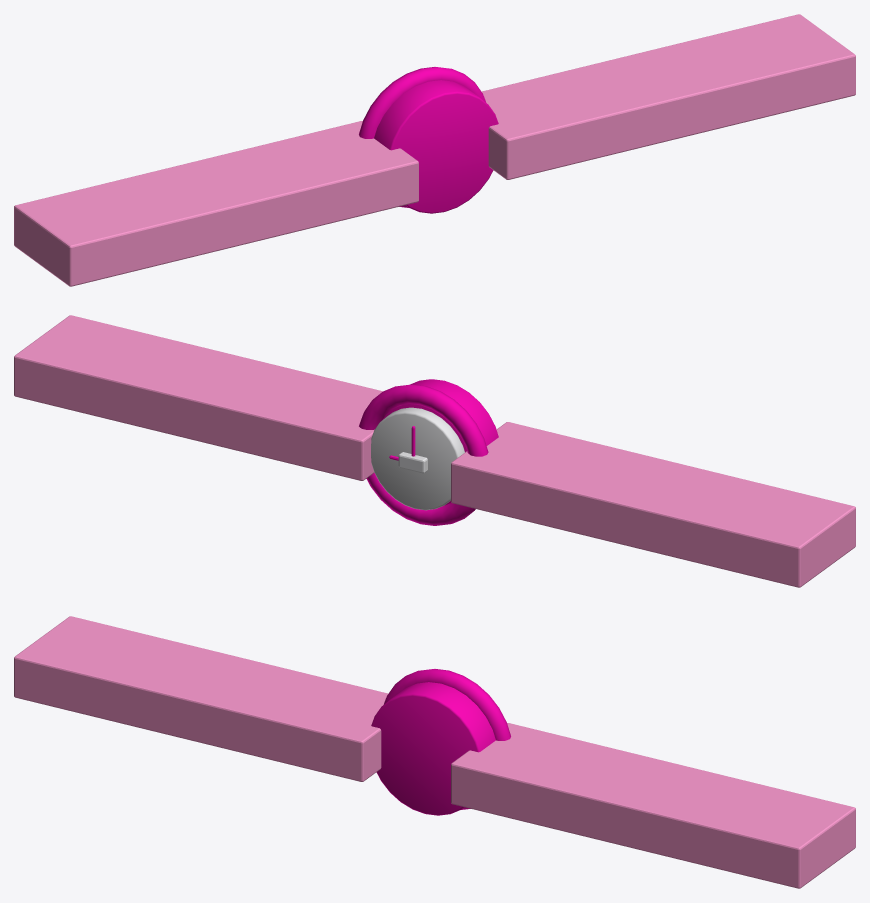
The model's file is VM-CAB-SH40787913.glb.
3 renders of one model, top to bottom at view 1: azimuth 30°, elevation 25°; view 2: azimuth 150°, elevation 25°; view 3: azimuth 330°, elevation 25°, orthographic.
Parts seen in each view (by area): view 1: Reloj de Estilo Motociclista; view 2: Reloj de Estilo Motociclista; view 3: Reloj de Estilo Motociclista.
Boxes of the visible parts, x1,y1,x2,y2 form: Reloj de Estilo Motociclista: [14, 14, 855, 286]; Reloj de Estilo Motociclista: [14, 315, 855, 587]; Reloj de Estilo Motociclista: [14, 616, 855, 888].
Bounding box in the file's own units: 0.4045 × 0.0674 × 0.0506.
